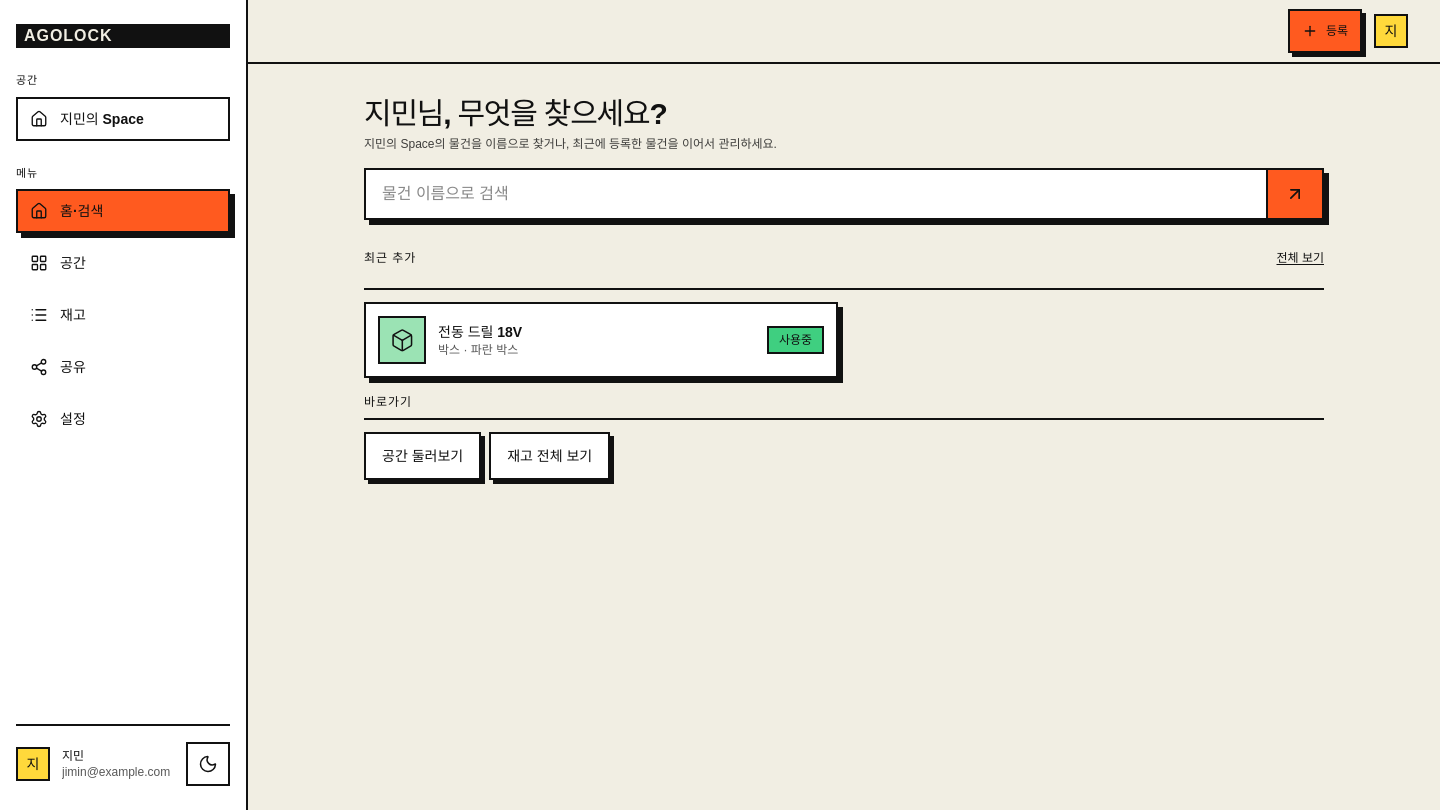
홈 › 최근 추가를 보여주고 검색 결과 화면으로 이동한다
The width and height of the screenshot is (1440, 810).
Check: the text "최근 추가" is shown, box [364,250,416,266]
Check: the text "전동 드릴 18V" is shown, box [438,324,522,340]
Type "드릴" into the field named "물건 검색" at (816,194), box [366,170,1266,218]
Then press Enter
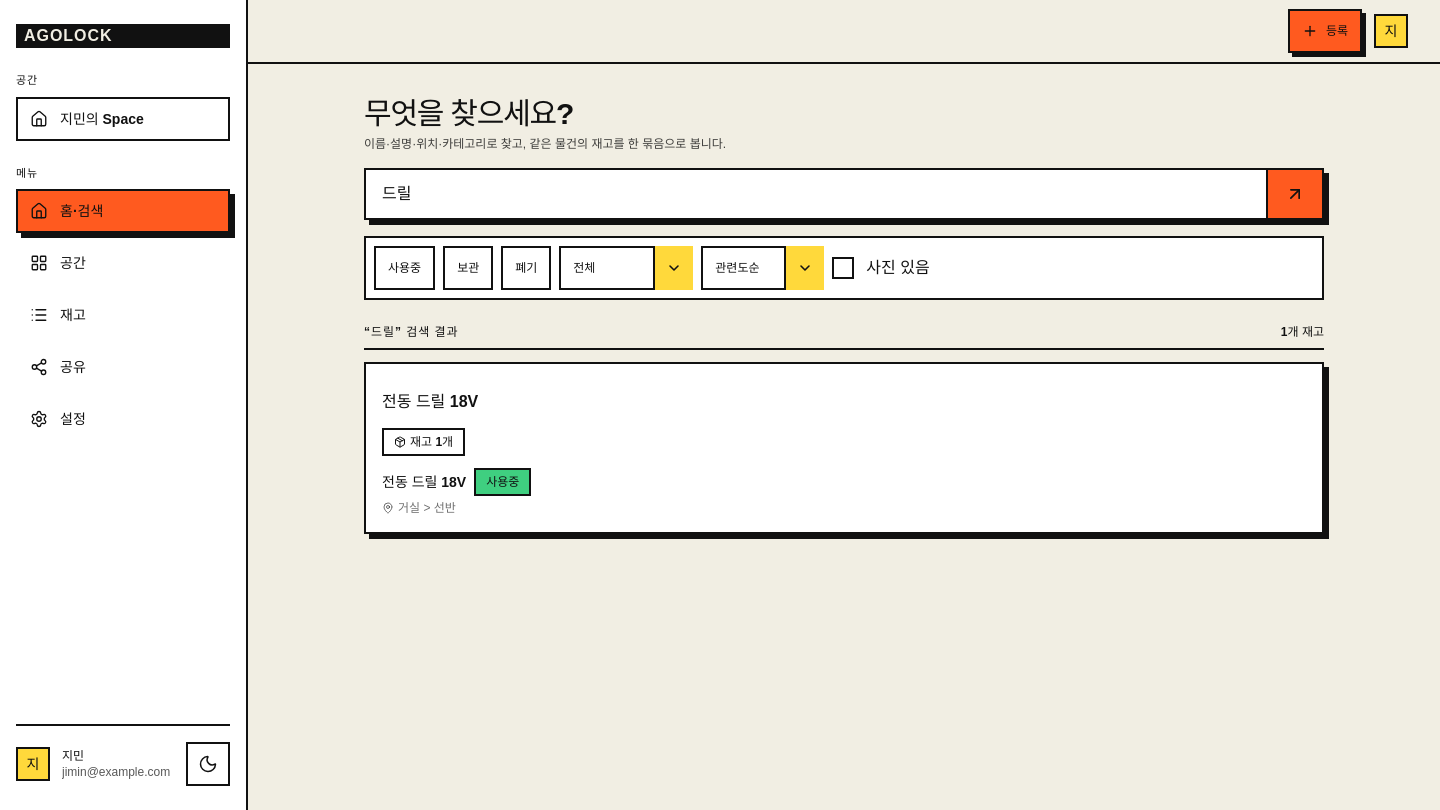
Check: the heading "무엇을 찾으세요?" is shown, box [364,97,573,130]
Check: the text "“드릴” 검색 결과" is shown, box [364,324,458,340]
